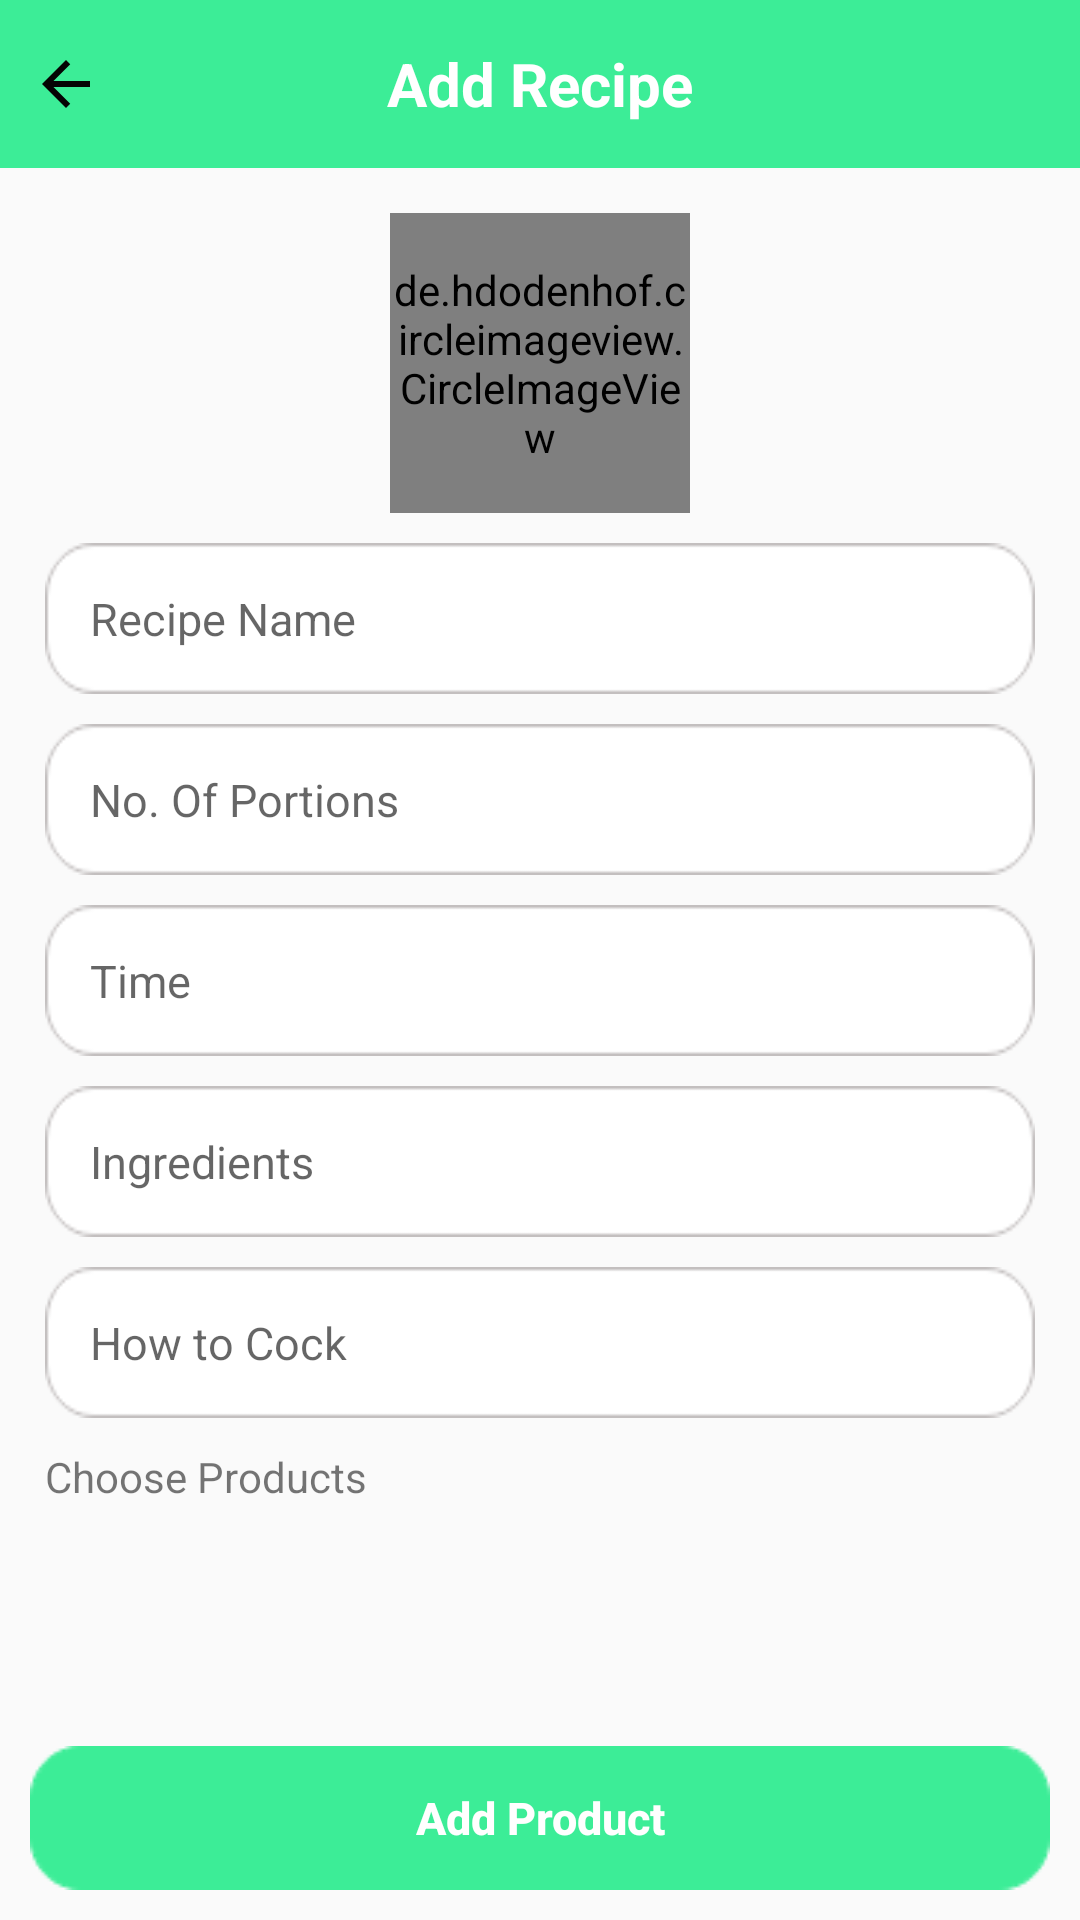

Where icons sit on this 1080×1920 app screen, as {"x1": x1, "y1": y1, "x2": x2, "y2": y2}:
back: {"x1": 42, "y1": 60, "x2": 90, "y2": 108}
